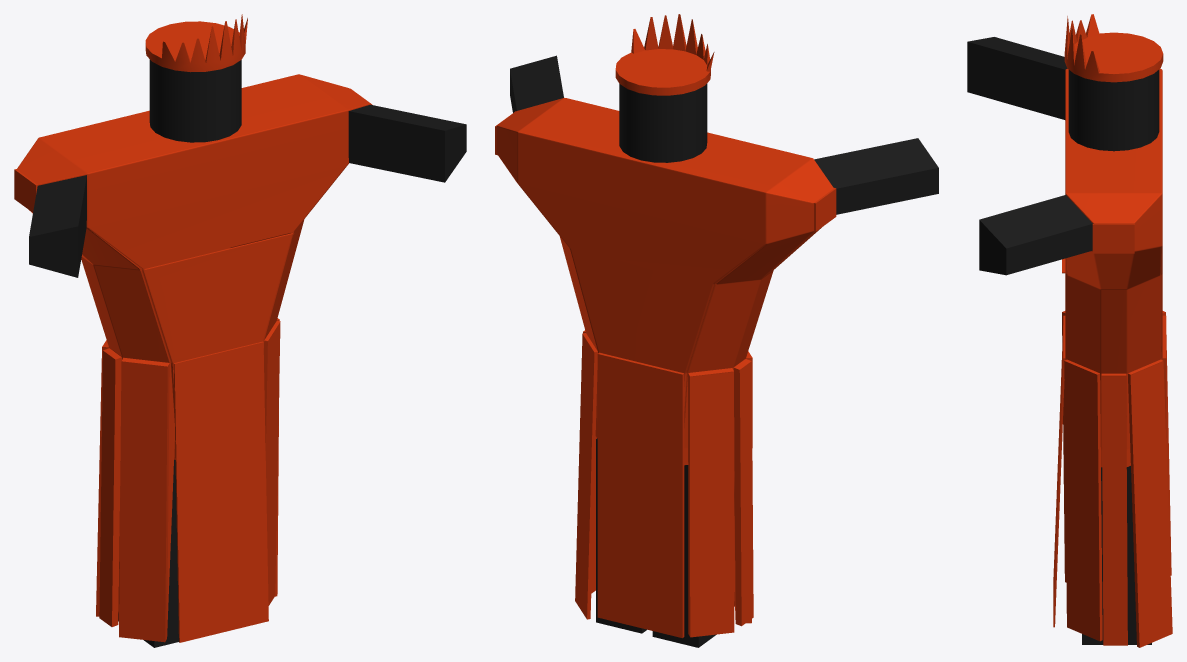
File: Fused.fbx
3 views of the same model, side by side, from view 1: azimuth 30°, elevation 25°; view 2: azimuth 150°, elevation 25°; view 3: azimuth 270°, elevation 25° (orthographic). The views are drawn at different scales.
Visible parts, largest first — view 1: Fused; view 2: Fused; view 3: Fused.
Boxes of the visible parts, x1,y1,x2,y2 form: Fused: (14, 14, 466, 647); Fused: (495, 14, 938, 647); Fused: (967, 14, 1172, 647).
Bounding box in the file's own units: 2.34 × 3.12 × 0.9611.
